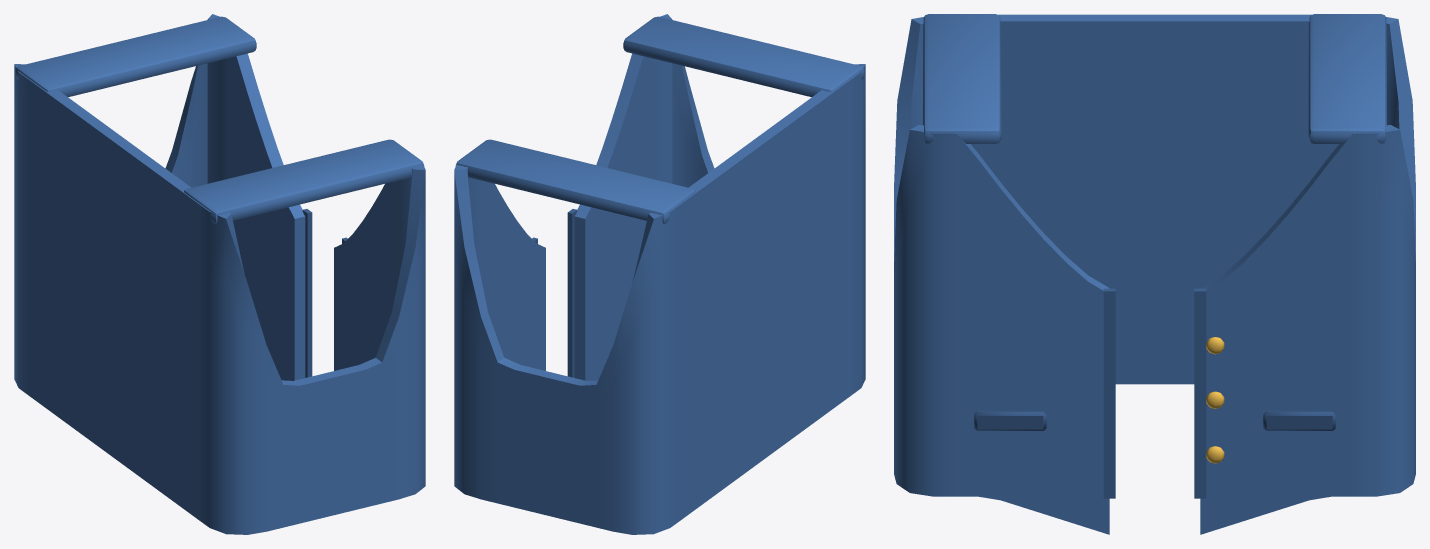
Rendered from detail_vest.glb.
3 views of the same model, side by side, from view 1: azimuth 30°, elevation 25°; view 2: azimuth 150°, elevation 25°; view 3: azimuth 270°, elevation 25° (orthographic). The views are drawn at different scales.
Visible parts, largest first — view 1: detail_vest; view 2: detail_vest; view 3: detail_vest.
Part boxes in pixels (x1,y1,x2,y2): detail_vest: (14,14,425,534); detail_vest: (454,14,865,534); detail_vest: (894,14,1415,534).
Size of the model in its own units: 0.4806 by 0.741 by 0.866.
